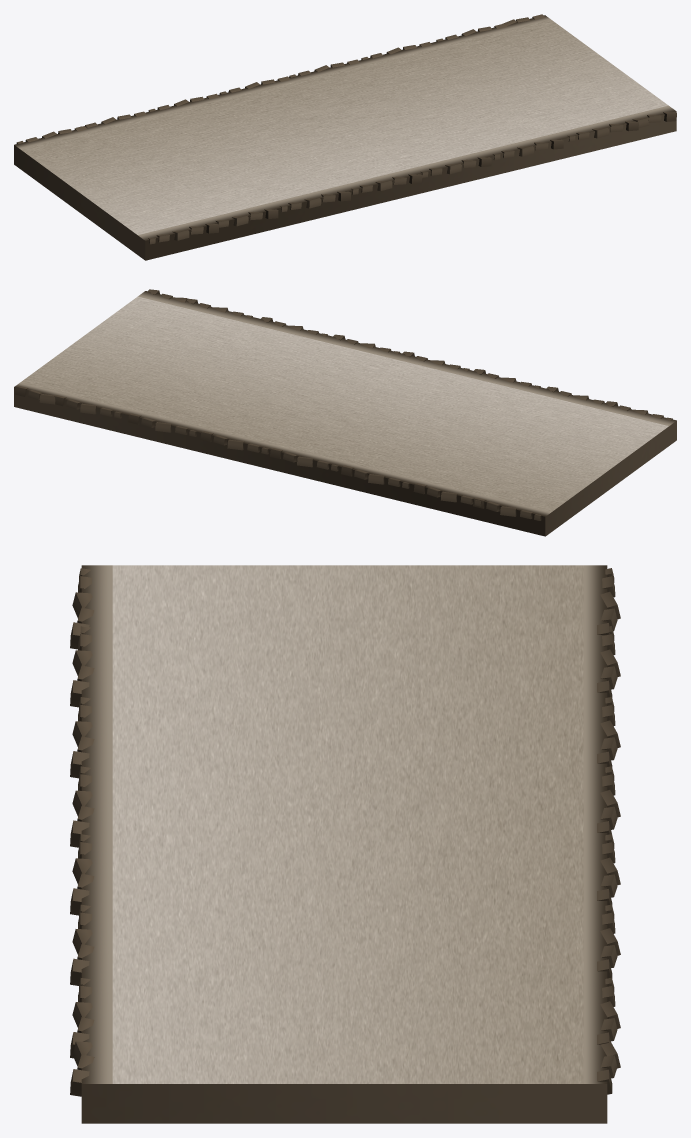
The model's file is Road.fbx.
The picture shows the model from 3 angles, top to bottom: view 1: azimuth 30°, elevation 25°; view 2: azimuth 150°, elevation 25°; view 3: azimuth 270°, elevation 25°; orthographic projection. The views are drawn at different scales.
Visible parts, largest first — view 1: pasted__pasted__pasted__pCube2; view 2: pasted__pasted__pasted__pCube2; view 3: pasted__pasted__pasted__pCube2.
Part boxes in pixels (left/top/right/bottom): pasted__pasted__pasted__pCube2: left=14, top=14, right=676, bottom=260; pasted__pasted__pasted__pCube2: left=14, top=289, right=676, bottom=536; pasted__pasted__pasted__pCube2: left=70, top=565, right=620, bottom=1123.
Size of the model in its own units: 14 by 0.5437 by 6.29.
